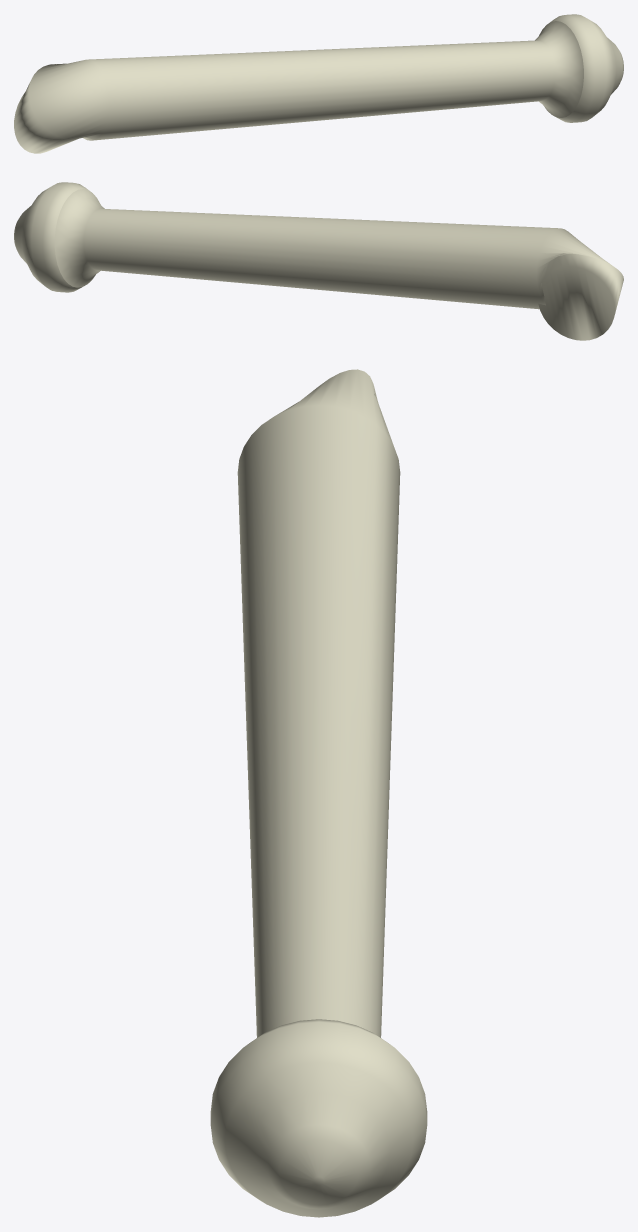
The model's file is right.glb.
3 renders of one model, top to bottom at view 1: azimuth 30°, elevation 25°; view 2: azimuth 150°, elevation 25°; view 3: azimuth 270°, elevation 25°, orthographic. The views are drawn at different scales.
Visible parts, largest first — view 1: Cylinder.002; view 2: Cylinder.002; view 3: Cylinder.002.
Boxes of the visible parts, left/top/right/bottom form: Cylinder.002: left=14, top=14, right=623, bottom=153; Cylinder.002: left=14, top=182, right=623, bottom=340; Cylinder.002: left=210, top=369, right=427, bottom=1217.
Bounding box in the file's own units: 16.96 × 4.68 × 2.66.
